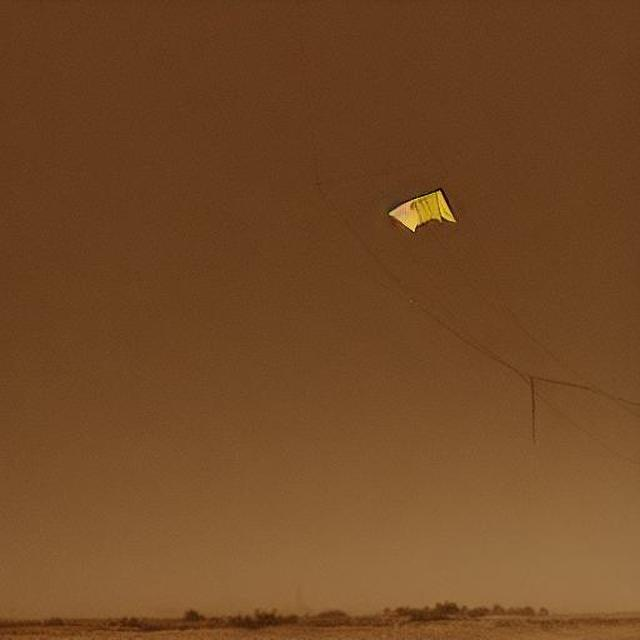floating object: (383, 186, 460, 238)
